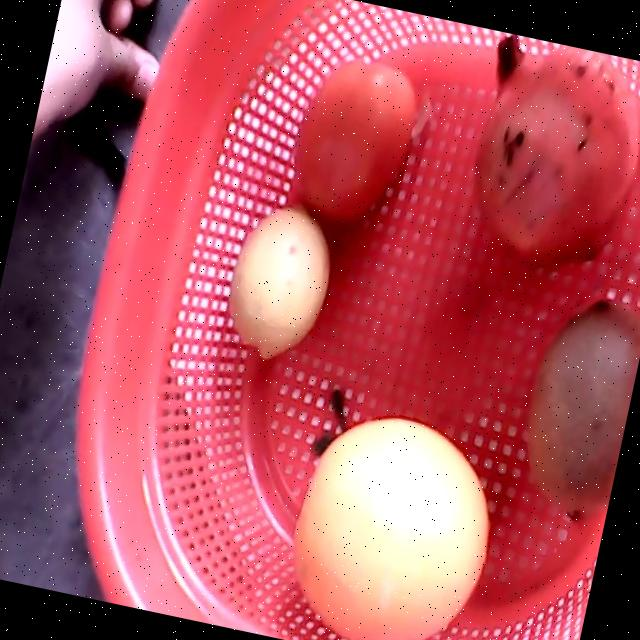kiwi: (524, 296, 640, 527)
lemon: (227, 207, 328, 358)
orange: (293, 418, 489, 640)
pomegranate: (470, 34, 638, 269)
tomato: (290, 59, 416, 218)
